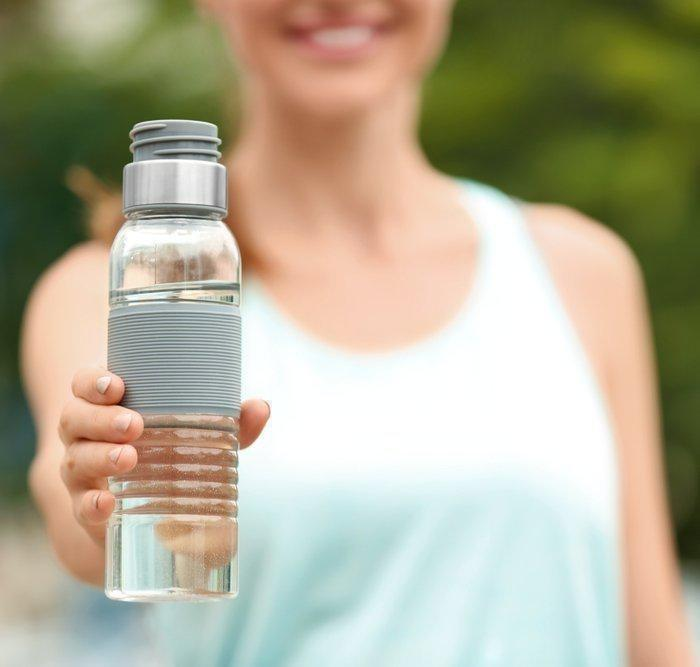gym bottle: (101, 115, 248, 609)
